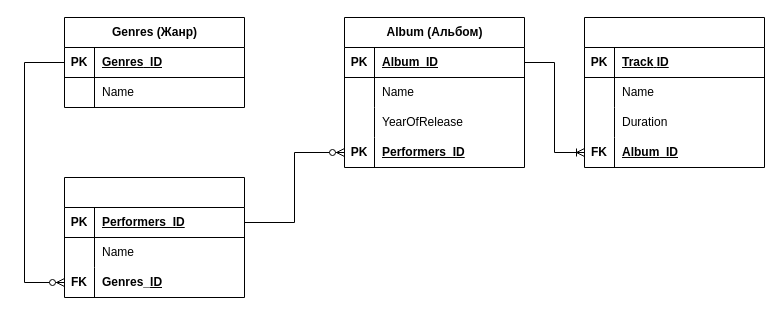
The diagram is 782 pixels wide and 315 high, and some of its shapes have lost their labels. Each missing label, with the box of its shape:
Performers (Исполнитель): (64, 176, 244, 298)
Track (Трэк): (584, 16, 764, 168)
